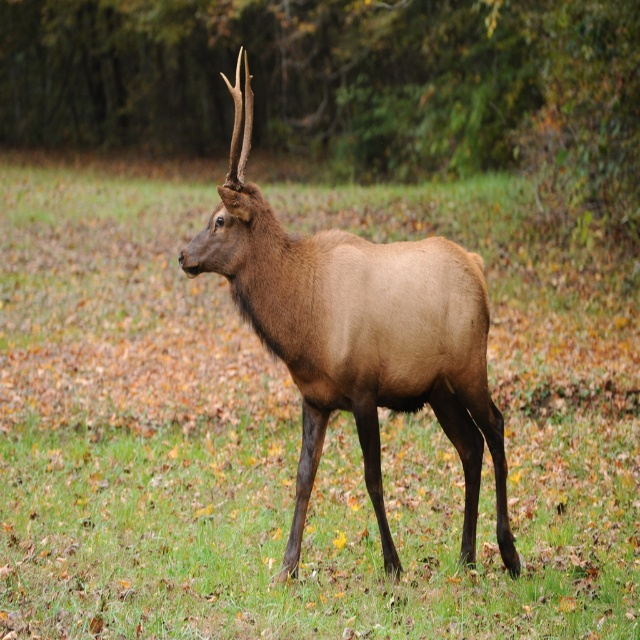Deer: (178, 46, 521, 585)
